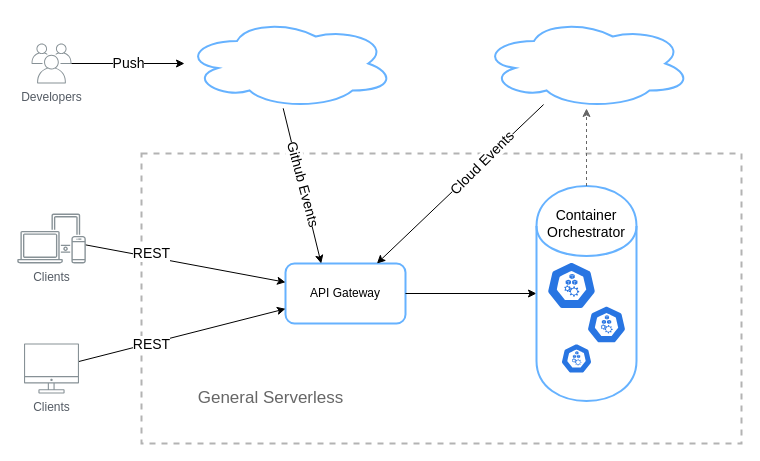
This 760x461 diagram has some shape labels left out. Here are the shapes that lost their labels. From the top down, the centre of each, then its label:
(289,63): Github
(586,63): Cloud Infrastructure
